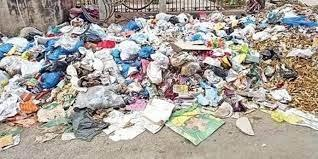garbage: (0, 9, 318, 123)
